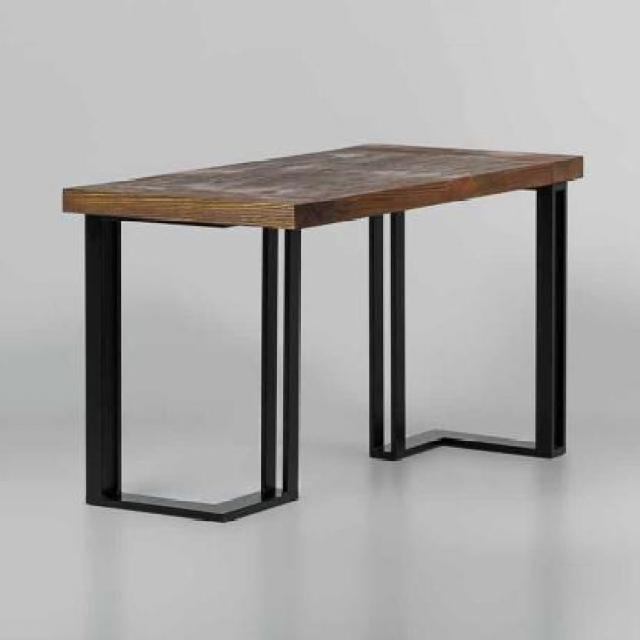table: (61, 140, 585, 529)
